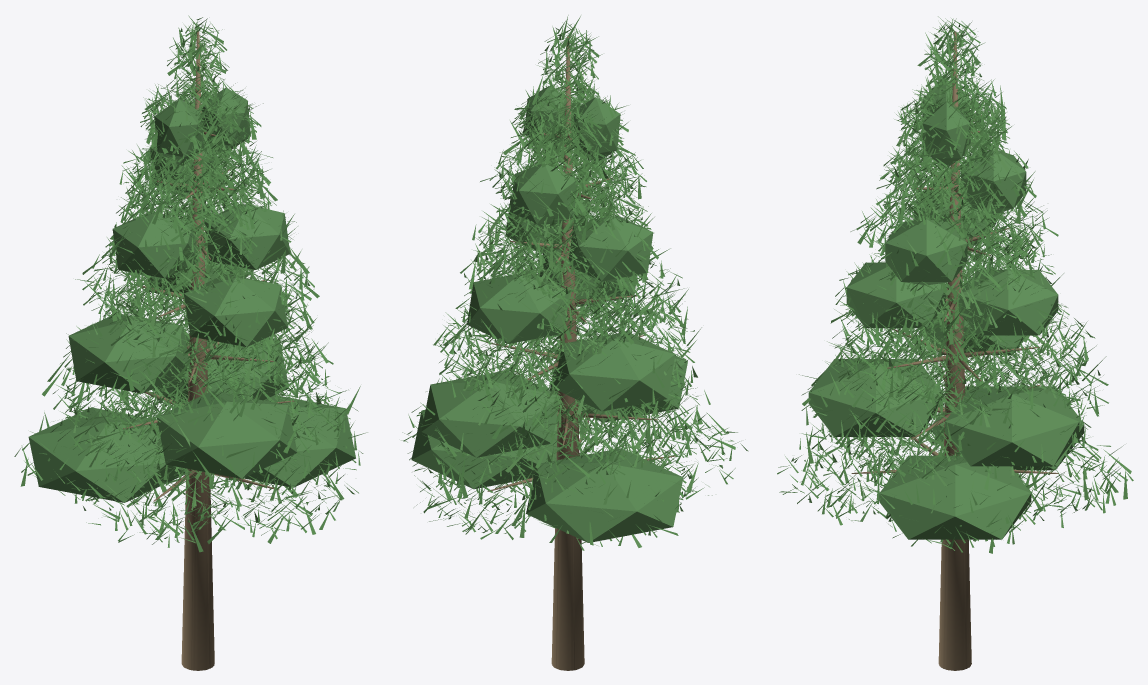
Rendered from SummerPine.fbx.
3 views of the same model, side by side, from view 1: azimuth 30°, elevation 25°; view 2: azimuth 150°, elevation 25°; view 3: azimuth 270°, elevation 25° (orthographic).
Parts seen in each view (by area): view 1: LOD2_EnvLeafPine, LOD0_EnvLeafPine, LOD1_EnvLeafPine, LOD0_EnvBark, LOD1_EnvBark, LOD2_EnvBark; view 2: LOD2_EnvLeafPine, LOD0_EnvLeafPine, LOD1_EnvLeafPine, LOD0_EnvBark, LOD1_EnvBark, LOD2_EnvBark; view 3: LOD2_EnvLeafPine, LOD0_EnvLeafPine, LOD1_EnvLeafPine, LOD0_EnvBark, LOD1_EnvBark.
Part boxes in pixels (box(x1,y1,x2,y2)): LOD2_EnvLeafPine: box(28, 87, 355, 502); LOD0_EnvLeafPine: box(14, 17, 363, 547); LOD1_EnvLeafPine: box(20, 15, 367, 552); LOD0_EnvBark: box(123, 31, 294, 670); LOD1_EnvBark: box(145, 32, 270, 670); LOD2_EnvBark: box(191, 35, 210, 670); LOD2_EnvLeafPine: box(411, 86, 687, 542); LOD0_EnvLeafPine: box(401, 21, 744, 546); LOD1_EnvLeafPine: box(412, 15, 748, 550); LOD0_EnvBark: box(486, 36, 675, 670); LOD1_EnvBark: box(493, 37, 674, 670); LOD2_EnvBark: box(487, 43, 574, 670); LOD2_EnvLeafPine: box(808, 80, 1084, 539); LOD0_EnvLeafPine: box(777, 18, 1133, 550); LOD1_EnvLeafPine: box(779, 16, 1131, 553); LOD0_EnvBark: box(851, 31, 1058, 670); LOD1_EnvBark: box(894, 34, 1057, 668).
Bounding box in the file's own units: 525 × 1079 × 537.
